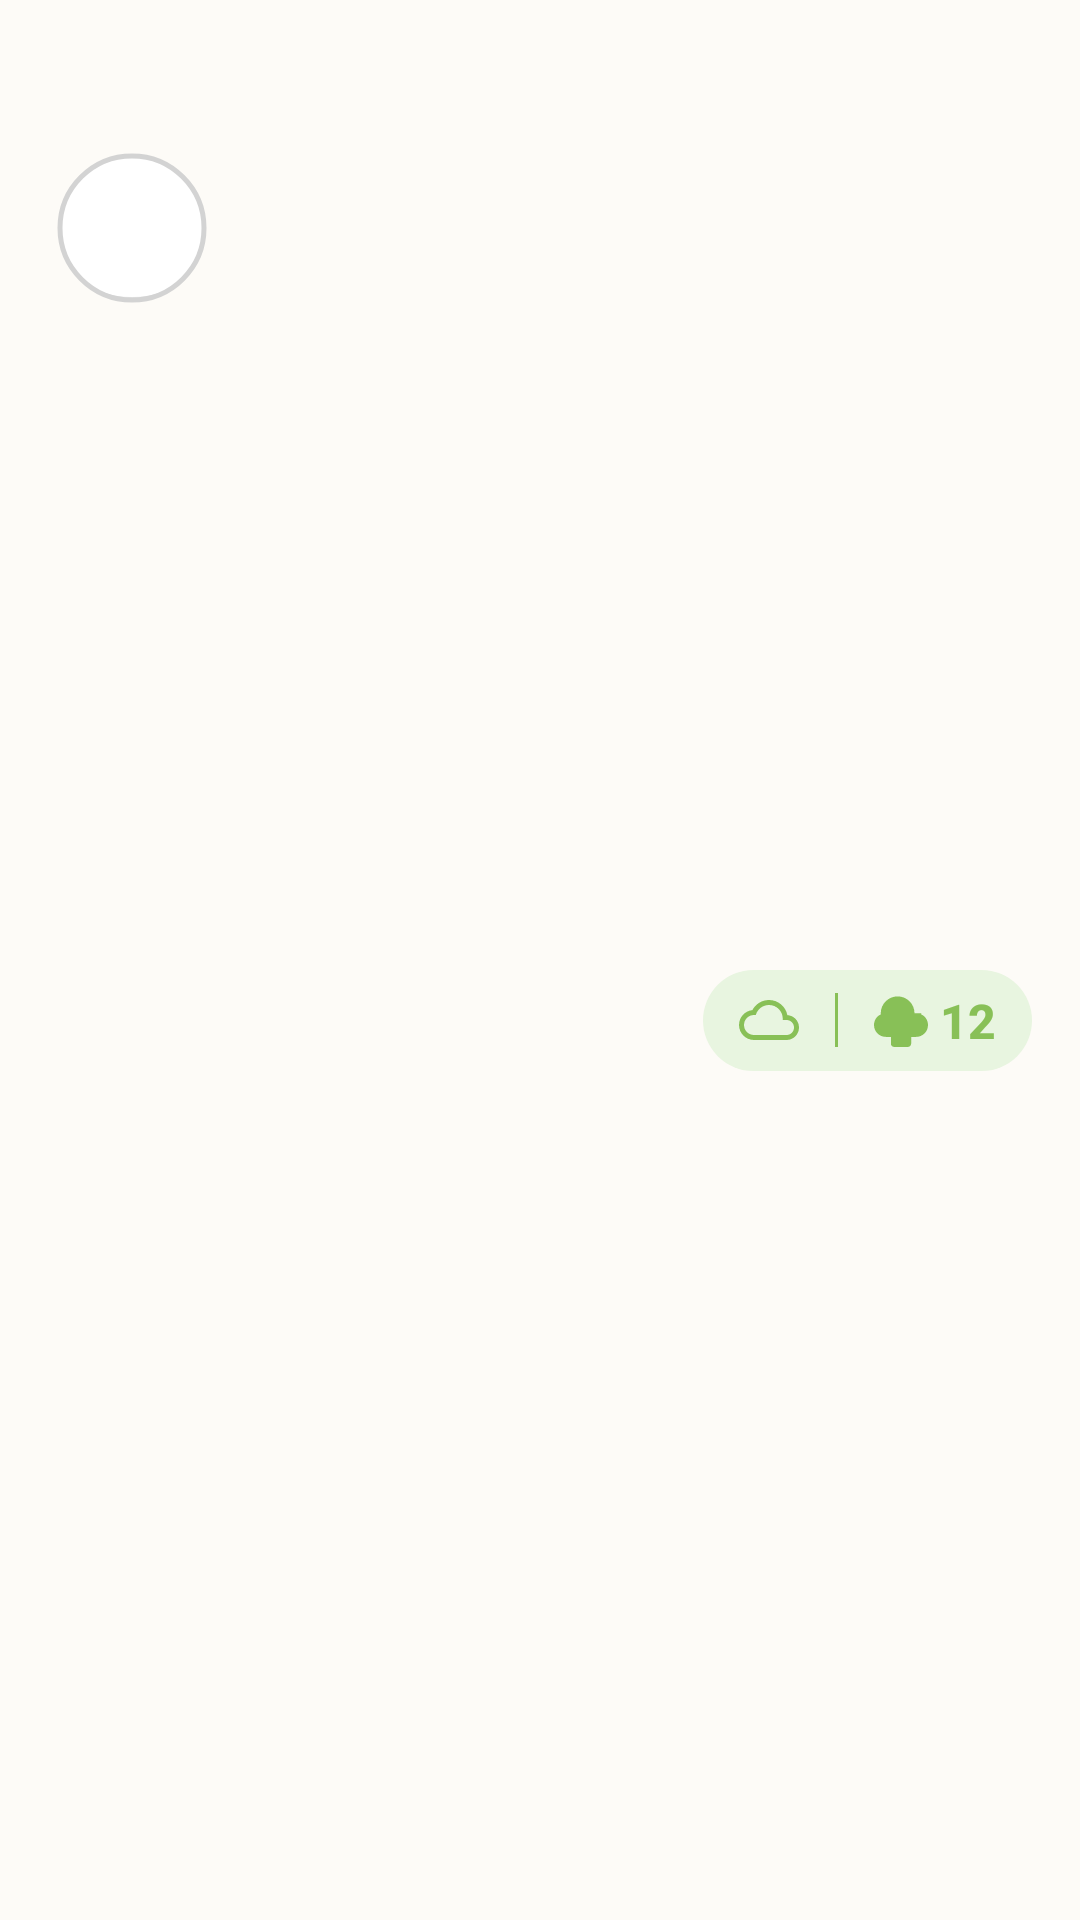

Icons on this 1080x1920 Android screen, each with the point to tap as (x,y):
Sync Status: (769,1020)
Tree Lives: (901,1021)
